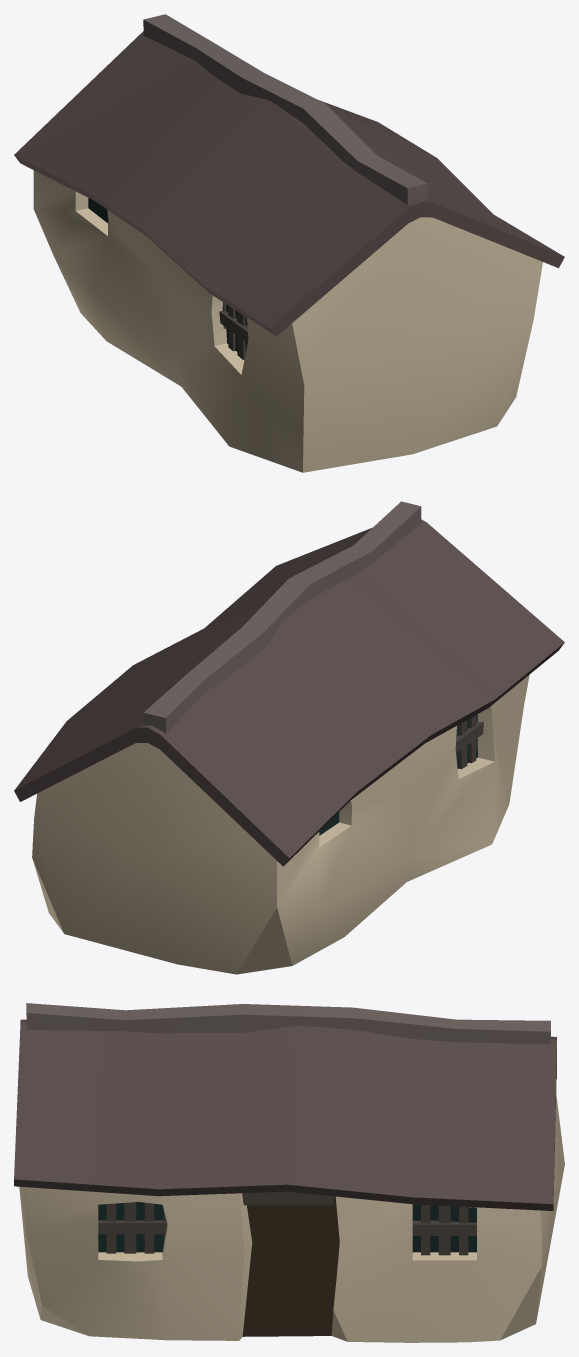
The model's file is Building_mode_L1_Northhouse003.fbx.
3 renders of one model, top to bottom at view 1: azimuth 30°, elevation 25°; view 2: azimuth 150°, elevation 25°; view 3: azimuth 270°, elevation 25°, orthographic.
Parts seen in each view (by area): view 1: Building_mode_L1_Northhouse003; view 2: Building_mode_L1_Northhouse003; view 3: Building_mode_L1_Northhouse003.
Boxes of the visible parts, x1,y1,x2,y2 form: Building_mode_L1_Northhouse003: [14, 14, 564, 472]; Building_mode_L1_Northhouse003: [14, 501, 564, 974]; Building_mode_L1_Northhouse003: [14, 1003, 564, 1342].
Bounding box in the file's own units: 2.93 × 2.49 × 4.58.
